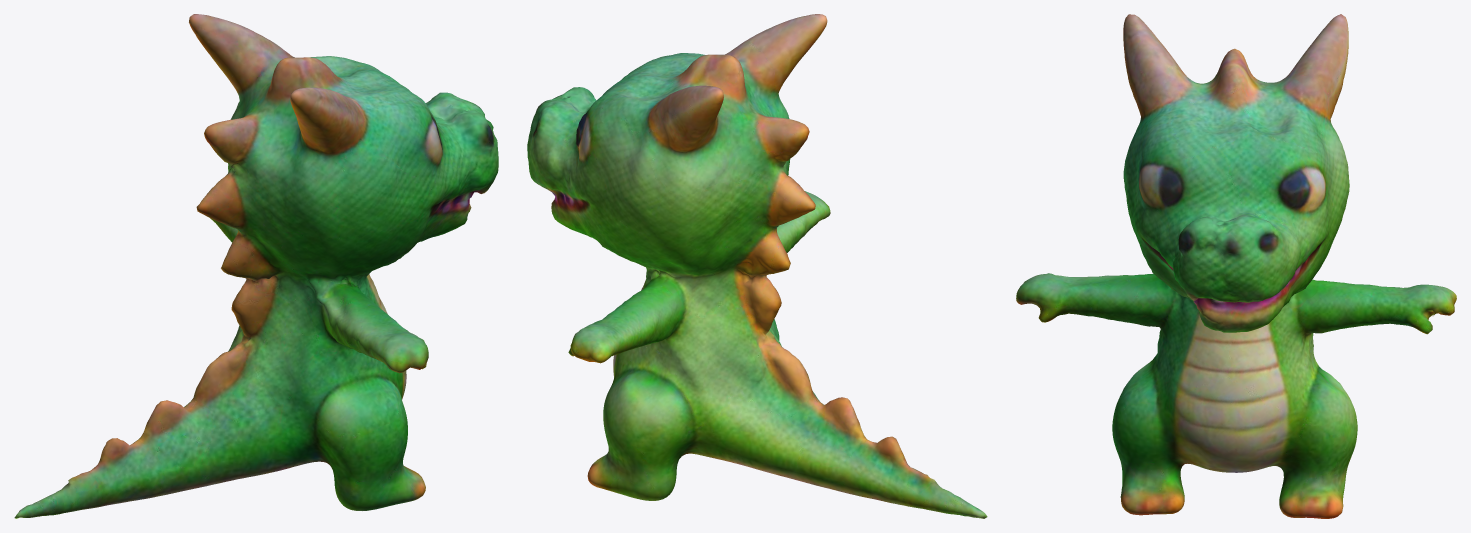
Rendered from green_chibi_dragon_sm_0728040523_preview.fbx.
The picture shows the model from 3 angles, left to right: view 1: azimuth 30°, elevation 25°; view 2: azimuth 150°, elevation 25°; view 3: azimuth 270°, elevation 25°; orthographic projection. The views are drawn at different scales.
Visible parts, largest first — view 1: Mesh1; view 2: Mesh1; view 3: Mesh1.
Part boxes in pixels (x1,y1,x2,y2): Mesh1: (14,14,498,518); Mesh1: (527,14,987,518); Mesh1: (1016,14,1456,518).
Bounding box in the file's own units: 120 × 109 × 97.57.
Materials: 1 (1 with a texture image).
